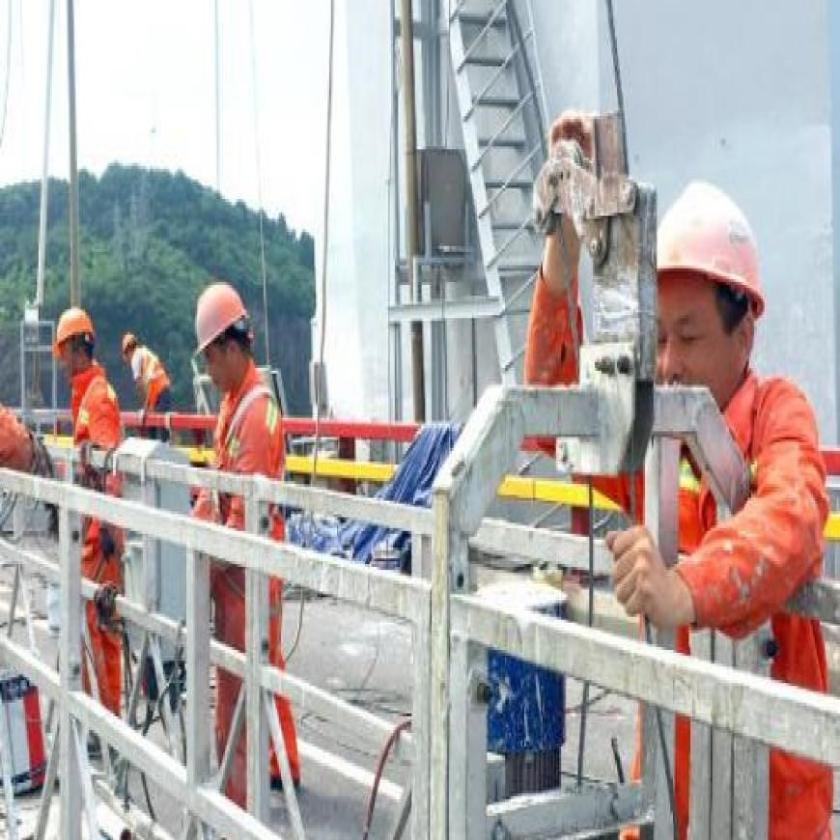Con_casco: (639, 170, 769, 428), (188, 283, 262, 407), (49, 304, 101, 381)
